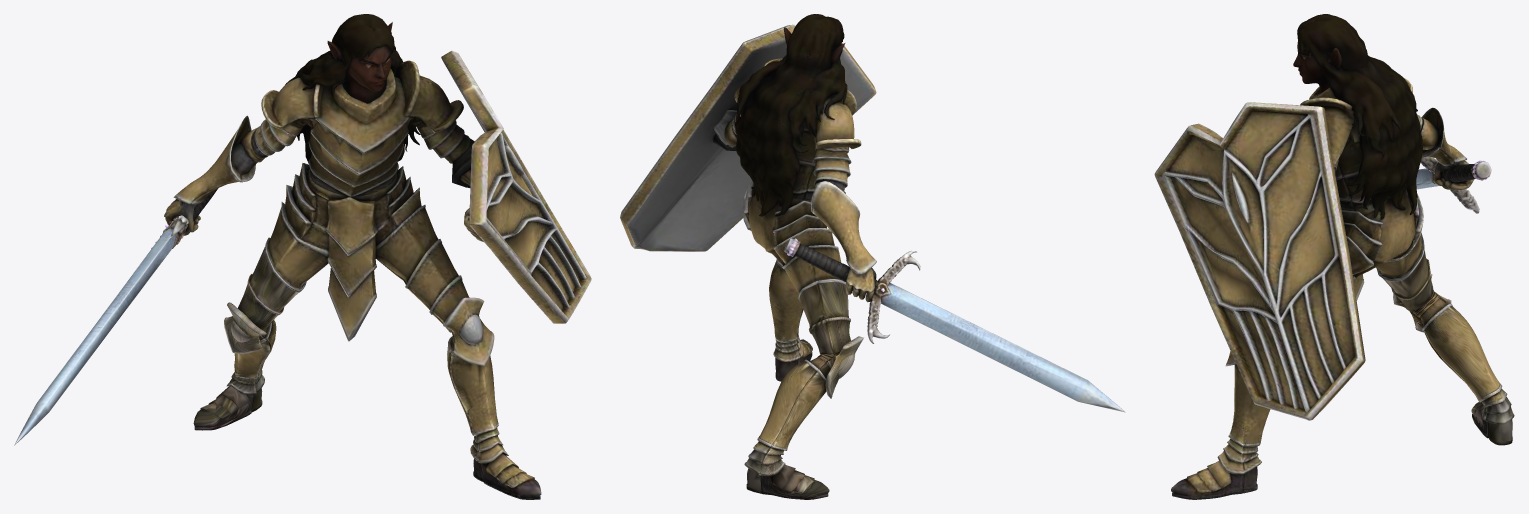
Rendered from MZ4250 - Elf Female Paladin_3 2025.glb.
The picture shows the model from 3 angles, left to right: view 1: azimuth 30°, elevation 25°; view 2: azimuth 150°, elevation 25°; view 3: azimuth 270°, elevation 25°; orthographic projection. The views are drawn at different scales.
Visible parts, largest first — view 1: Body.002; view 2: Body.002; view 3: Body.002.
Boxes of the visible parts, x1,y1,x2,y2 form: Body.002: [14, 14, 591, 499]; Body.002: [620, 14, 1125, 499]; Body.002: [1154, 14, 1514, 499].
Bounding box in the file's own units: 106 × 80.84 × 60.73.
1 material, 1 textured.
